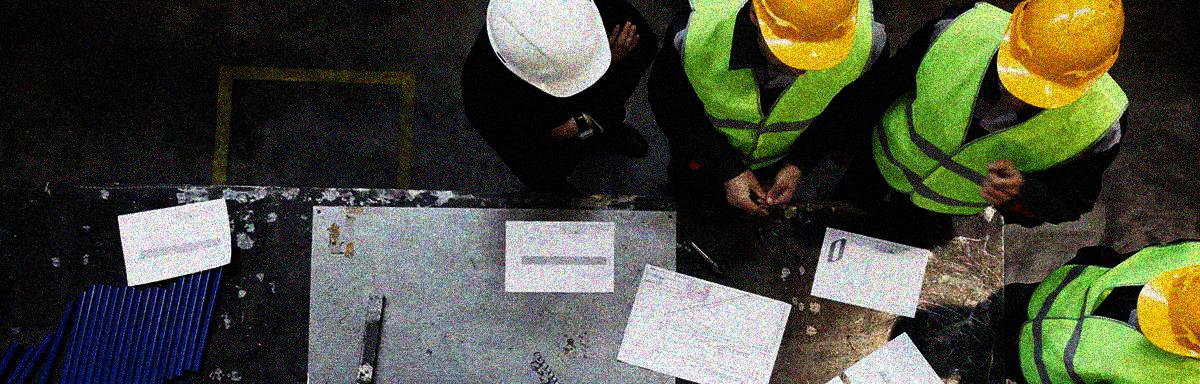helmet: (991, 1, 1126, 121), (487, 1, 619, 110), (746, 1, 871, 81), (1133, 262, 1200, 362)
